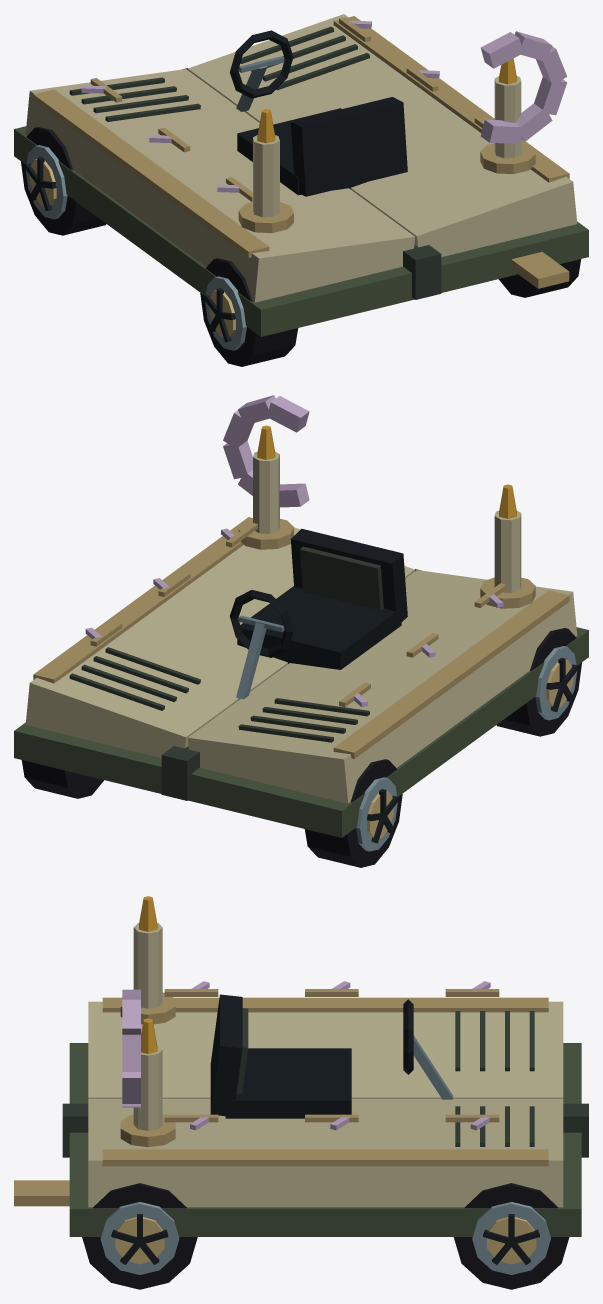
The model's file is kart.glb.
3 renders of one model, top to bottom at view 1: azimuth 30°, elevation 25°; view 2: azimuth 150°, elevation 25°; view 3: azimuth 270°, elevation 25°, orthographic. The views are drawn at different scales.
Parts seen in each view (by area): view 1: identity-book-book-open-pages-and-spine, identity-book-driver-cockpit, identity-book-motif-candles, wheel-rear-left, identity-book-motif-moon, wheel-front-left, identity-book-motif-runes, wheel-rear-right; view 2: identity-book-book-open-pages-and-spine, identity-book-driver-cockpit, identity-book-motif-candles, wheel-front-left, wheel-rear-left, identity-book-motif-moon, identity-book-motif-runes, wheel-front-right; view 3: identity-book-book-open-pages-and-spine, identity-book-driver-cockpit, wheel-rear-right, wheel-front-right, identity-book-motif-candles, identity-book-motif-runes, identity-book-motif-moon.
Boxes of the visible parts, box(x1,y1,x2,y2) form: identity-book-book-open-pages-and-spine: box(14, 14, 588, 336); identity-book-driver-cockpit: box(229, 30, 407, 196); identity-book-motif-candles: box(238, 58, 535, 232); wheel-rear-left: box(200, 258, 298, 366); identity-book-motif-moon: box(480, 31, 567, 143); wheel-front-left: box(21, 127, 106, 235); identity-book-motif-runes: box(81, 17, 484, 201); wheel-rear-right: box(498, 259, 581, 297); identity-book-book-open-pages-and-spine: box(14, 517, 588, 837); identity-book-driver-cockpit: box(229, 528, 407, 700); identity-book-motif-candles: box(238, 425, 535, 608); wheel-front-left: box(304, 759, 402, 867); wheel-rear-left: box(496, 628, 581, 736); identity-book-motif-moon: box(223, 395, 309, 507); identity-book-motif-runes: box(85, 522, 506, 707); wheel-front-right: box(21, 760, 104, 798); identity-book-book-open-pages-and-spine: box(14, 997, 588, 1236); identity-book-driver-cockpit: box(210, 994, 453, 1118); wheel-rear-right: box(82, 1183, 197, 1289); wheel-front-right: box(453, 1183, 569, 1289); identity-book-motif-candles: box(120, 896, 175, 1147); identity-book-motif-runes: box(164, 981, 499, 1130); identity-book-motif-moon: box(122, 989, 140, 1107).
Bounding box in the file's own units: 2.01 × 1.45 × 2.78.
